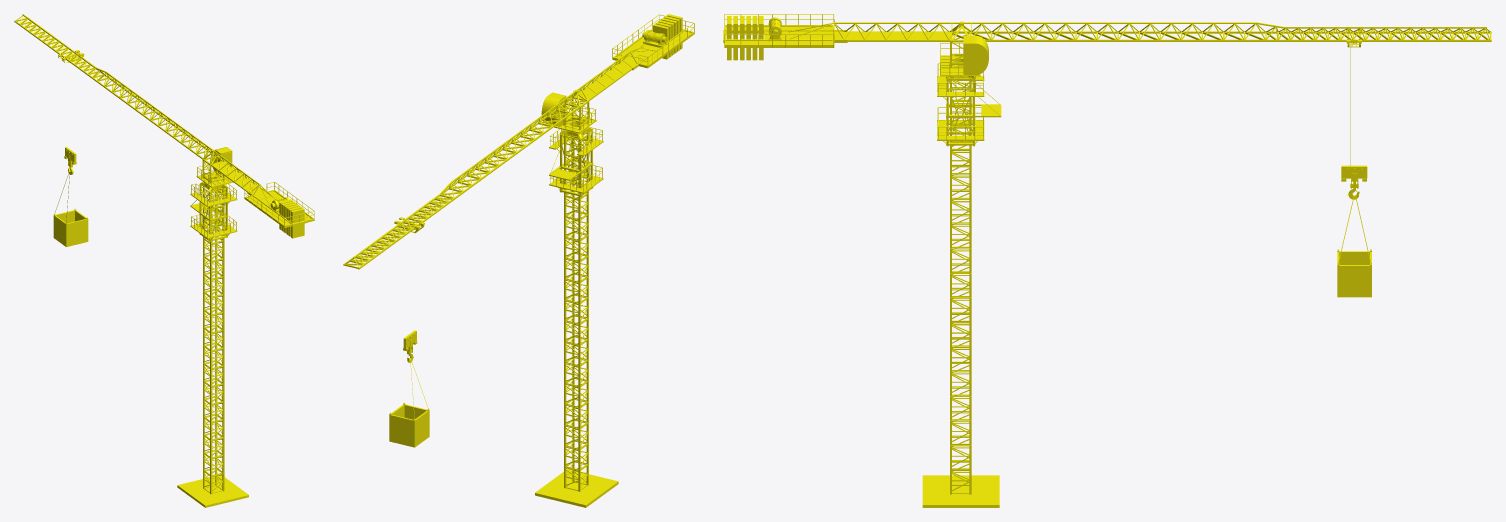
3 views of the same model, side by side, from view 1: azimuth 30°, elevation 25°; view 2: azimuth 150°, elevation 25°; view 3: azimuth 270°, elevation 25° (orthographic). The views are drawn at different scales.
Visible parts, largest first — view 1: 平臂塔机.1; view 2: 平臂塔机.1; view 3: 平臂塔机.1.
Boxes of the visible parts, box(x1,y1,x2,y2) form: 平臂塔机.1: box(14, 14, 314, 507); 平臂塔机.1: box(343, 14, 694, 507); 平臂塔机.1: box(723, 14, 1491, 507).
Size of the model in its own units: 30.81 by 231 by 340.
